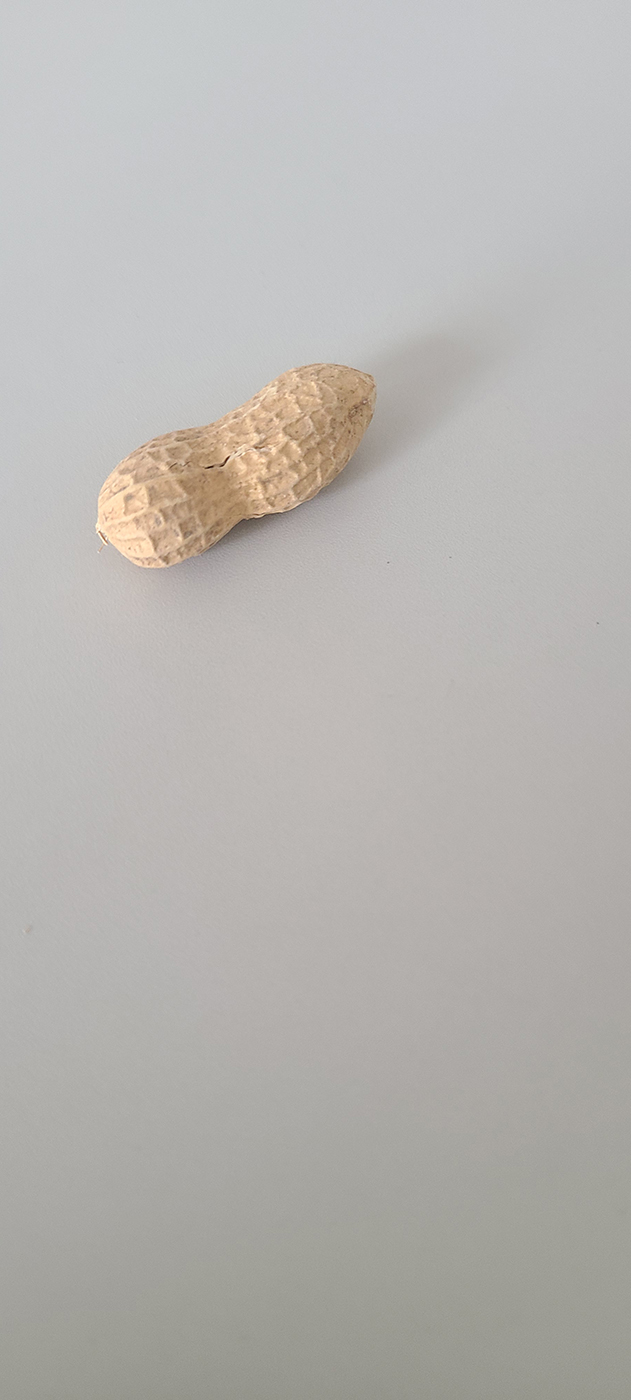h: (92, 364, 379, 567)
